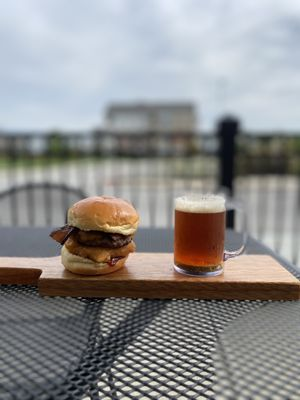pizza: (172, 193, 227, 278)
